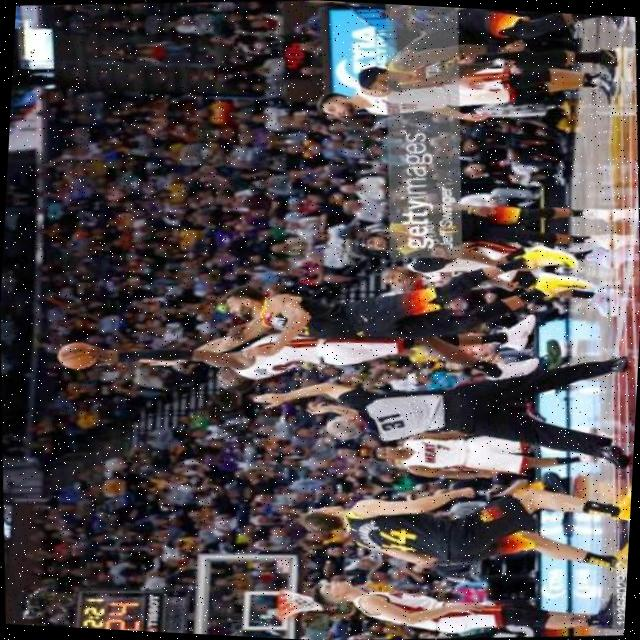ball: (54, 338, 100, 371)
hoop: (275, 591, 288, 619)
